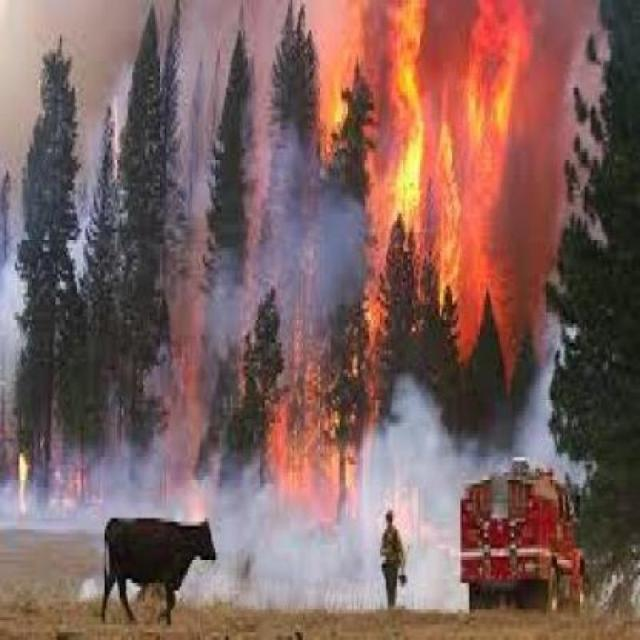Fire: (243, 0, 634, 495)
